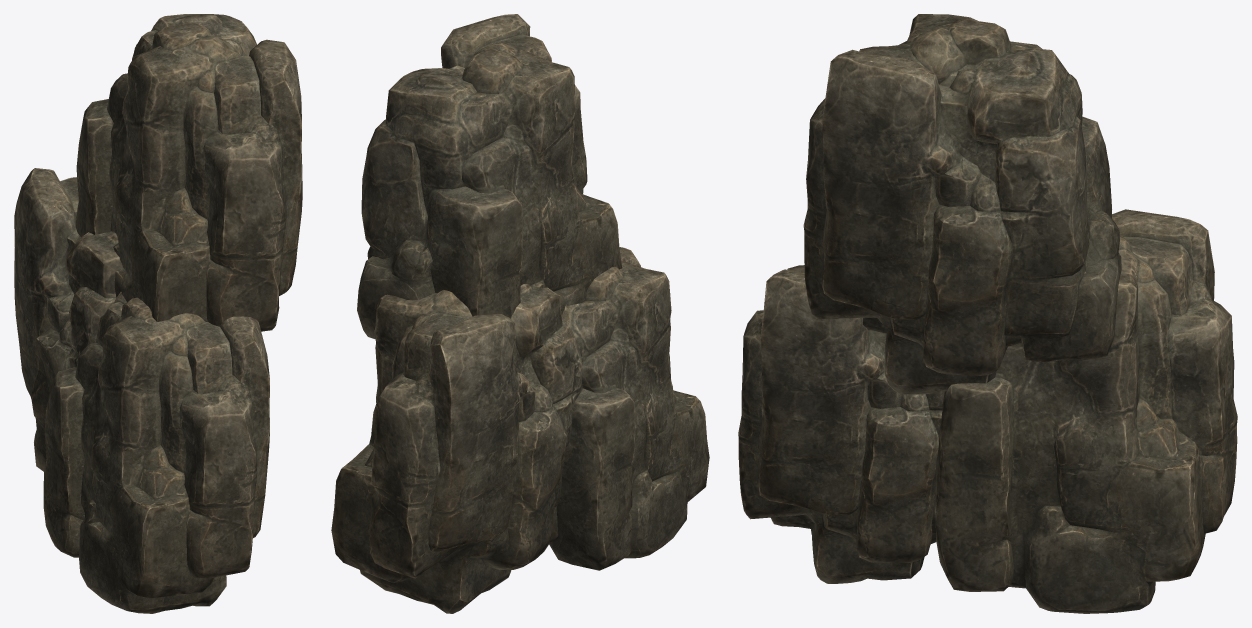
File: rockcliff.fbx
3 views of the same model, side by side, from view 1: azimuth 30°, elevation 25°; view 2: azimuth 150°, elevation 25°; view 3: azimuth 270°, elevation 25° (orthographic). The views are drawn at different scales.
Visible parts, largest first — view 1: rockcliff1, rockcliff1_2, rockcliff1_1; view 2: rockcliff1_1, rockcliff1_2, rockcliff1; view 3: rockcliff1_2, rockcliff1_1, rockcliff1.
Part boxes in pixels (x1,y1,x2,y2): rockcliff1: (43,292,269,613); rockcliff1_2: (75,14,302,331); rockcliff1_1: (14,168,122,471); rockcliff1_1: (331,284,582,613); rockcliff1_2: (357,14,622,339); rockcliff1: (549,247,709,570); rockcliff1_2: (803,14,1121,394); rockcliff1_1: (932,209,1237,613); rockcliff1: (738,265,944,583).
Bounding box in the file's own units: 239 × 509 × 395.
